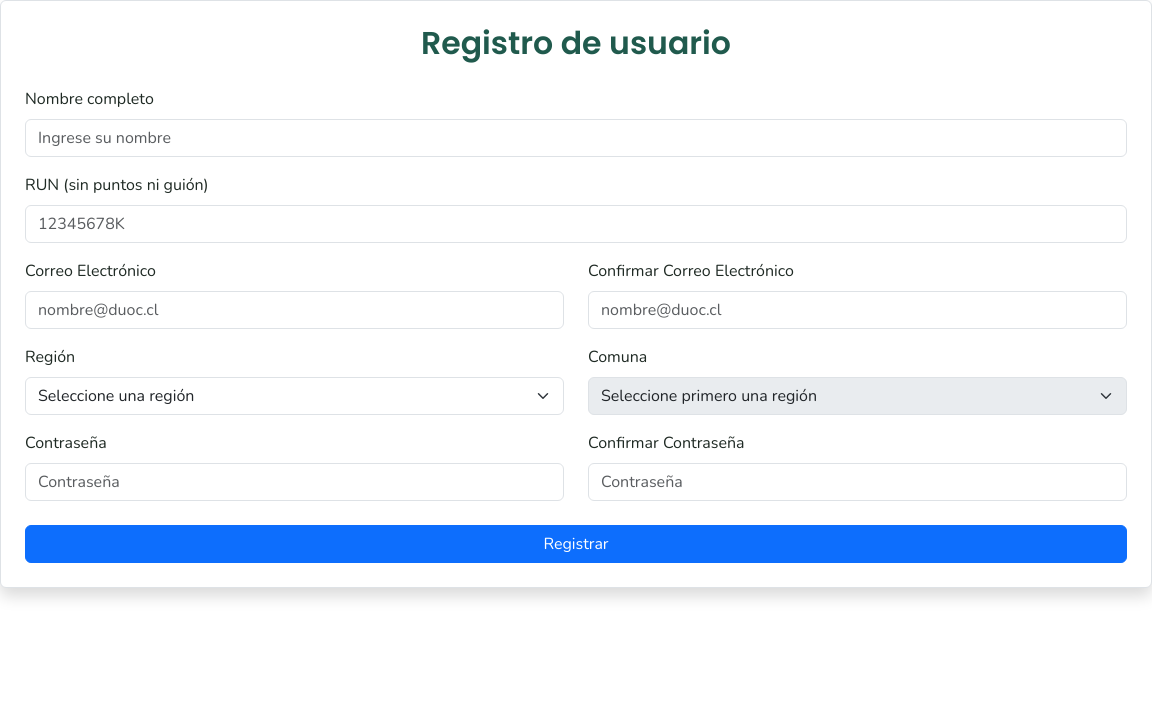
it: FormularioRegistro Component › muestra un error al enviar el formulario con campos vacíos
Step 1. Click the button "Registrar" → (576, 544), box [25,525,1127,563]
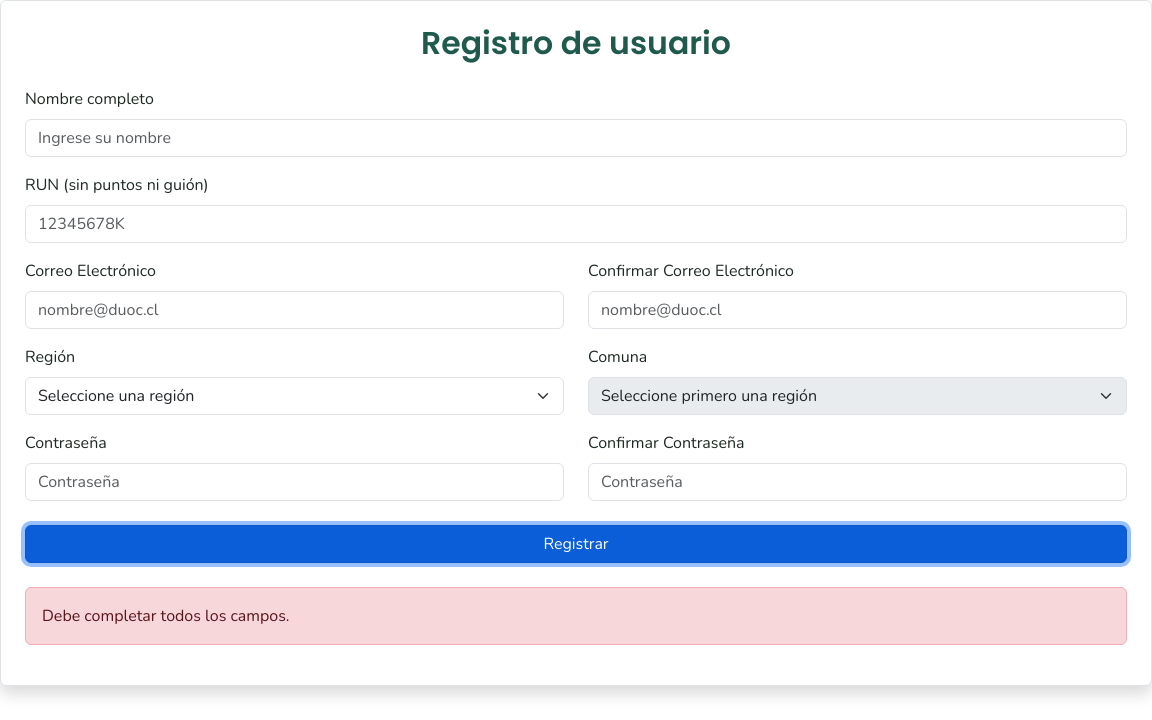
expect the text "Debe completar todos los campos." is shown: met, box [25,587,1127,645]
